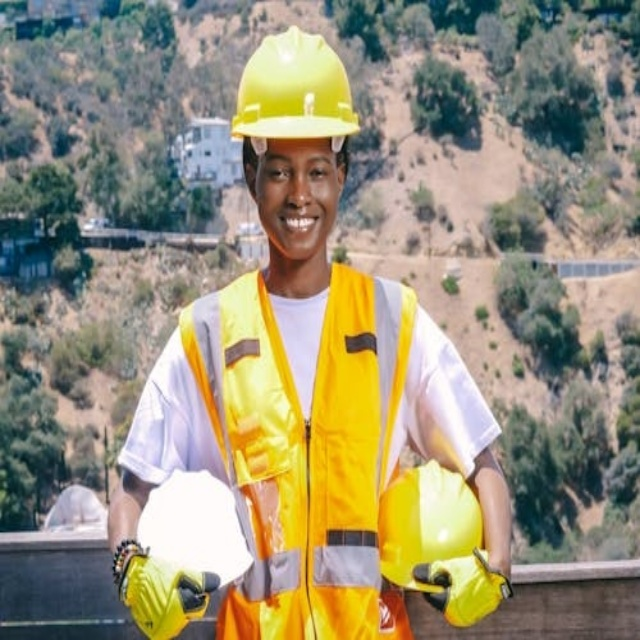Guantes: (113, 542, 220, 640), (409, 545, 513, 628)
Sin_gafas: (262, 155, 335, 186)
Sin_mascara: (270, 210, 321, 253)
